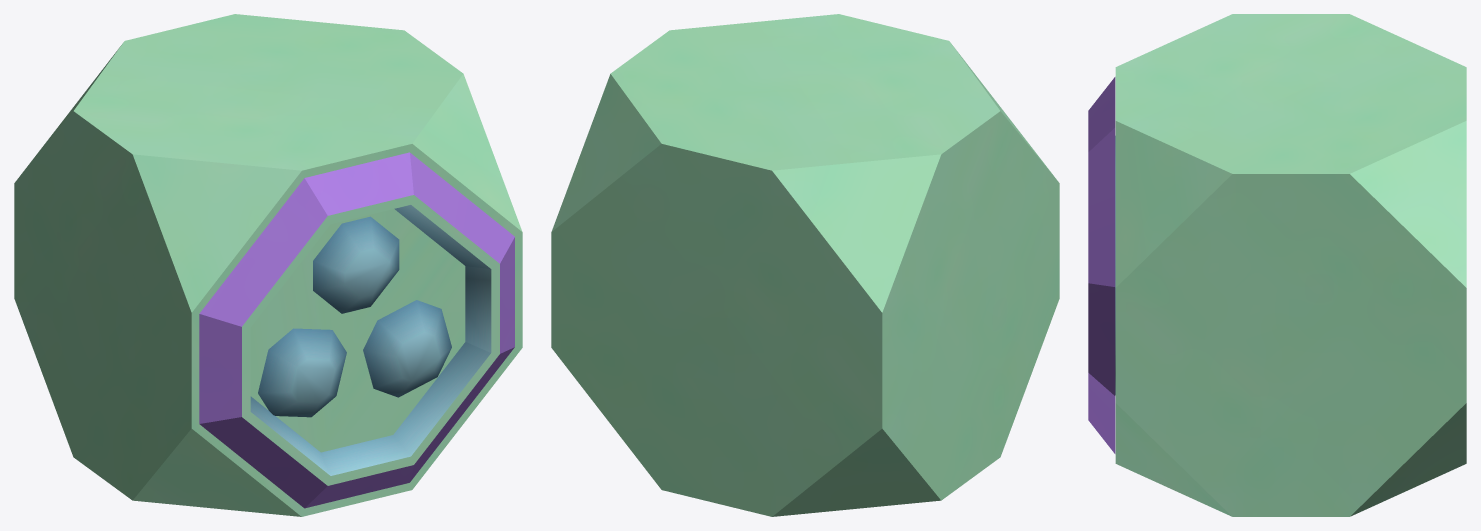
File: Shield 2.fbx
3 renders of one model, left to right at view 1: azimuth 30°, elevation 25°; view 2: azimuth 150°, elevation 25°; view 3: azimuth 270°, elevation 25°, orthographic.
Parts seen in each view (by area): view 1: Shield 2; view 2: Shield 2; view 3: Shield 2.
Part boxes in pixels (x1,y1,x2,y2): Shield 2: (14, 14, 522, 516); Shield 2: (551, 14, 1059, 516); Shield 2: (1088, 14, 1466, 516).
Bounding box in the file's own units: 100 × 100 × 100.
